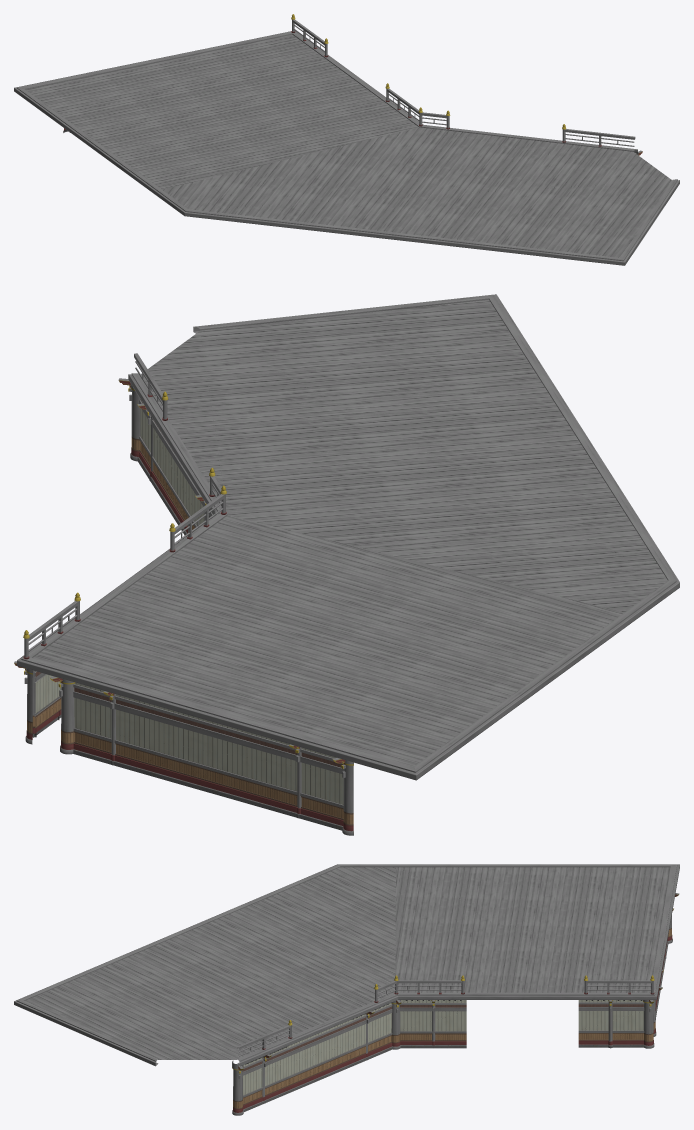
File: SM_ENV_LKNVLD_WallSet_PlatformB.FBX
3 renders of one model, top to bottom at view 1: azimuth 30°, elevation 25°; view 2: azimuth 150°, elevation 25°; view 3: azimuth 270°, elevation 25°, orthographic. The views are drawn at different scales.
Visible parts, largest first — view 1: SM_ENV_LKNVLD_WallSet_PlatformB; view 2: SM_ENV_LKNVLD_WallSet_PlatformB; view 3: SM_ENV_LKNVLD_WallSet_PlatformB.
Boxes of the visible parts, x1,y1,x2,y2 form: SM_ENV_LKNVLD_WallSet_PlatformB: (14, 14, 679, 265); SM_ENV_LKNVLD_WallSet_PlatformB: (14, 294, 679, 835); SM_ENV_LKNVLD_WallSet_PlatformB: (14, 864, 679, 1115).
Size of the model in its own units: 4844 by 812 by 6774.
